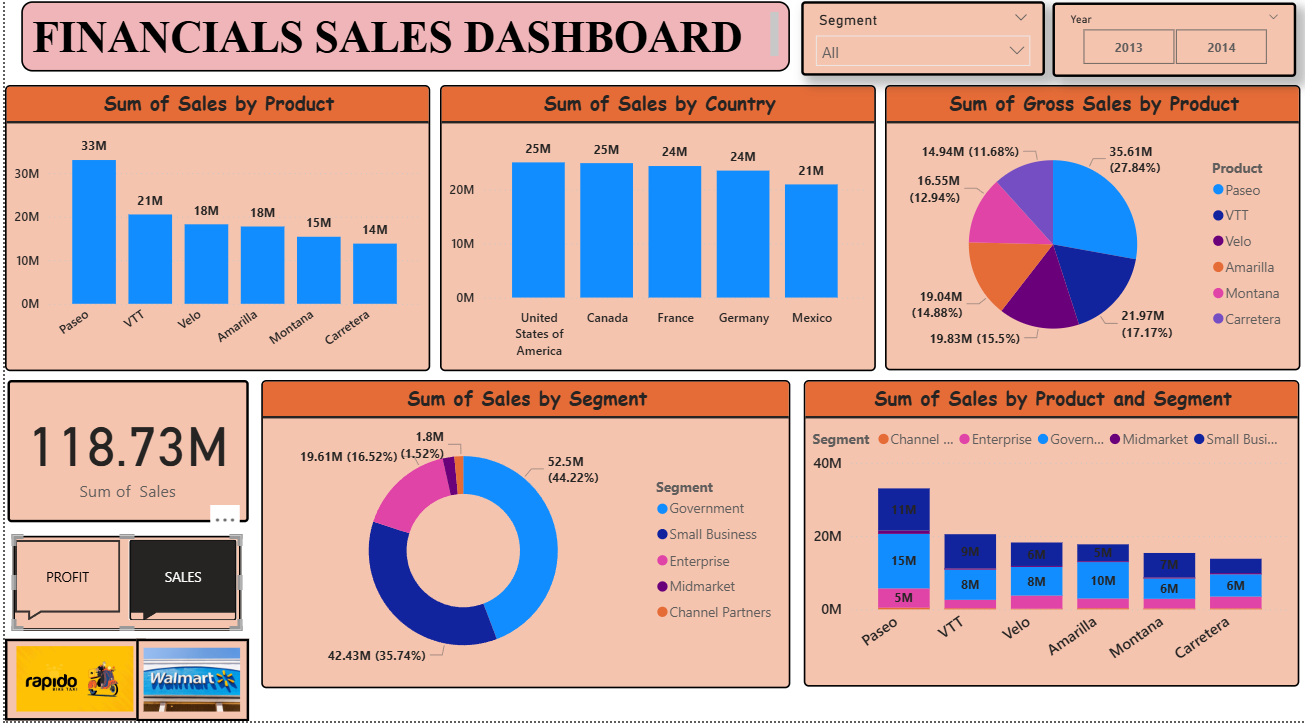

What the dashboard file says about the page in this screenshot:
{"tool":"powerbi","page":{"name":"dashboard","canvas":[1280,720],"ordinal":0},"visuals":[{"type":"columnChart","fields":{"Y":["Sum(financials. Sales)"],"Category":["financials.Product"]},"box":[0,97.8,415.8,280],"z":0},{"type":"textbox","box":[15.9,15.9,752,68.5],"z":1000},{"type":"columnChart","fields":{"Y":["Sum(financials. Sales)"],"Category":["financials.Country"]},"box":[425.4,97.4,426.8,279.9],"z":2000},{"type":"pieChart","fields":{"Category":["financials.Product"],"Y":["Sum(financials.Gross Sales)"]},"box":[860.4,97.7,406.1,279.5],"z":3000},{"type":"columnChart","fields":{"Category":["financials.Product"],"Series":["financials.Segment"],"Y":["Sum(financials. Sales)"]},"box":[781.9,386.8,484.6,300.1],"z":5000},{"type":"slicer","fields":{"Values":["financials.Segment"]},"box":[778.6,15.7,238.6,72.9],"z":6000},{"type":"card","fields":{"Values":["Sum(financials. Sales)"]},"box":[2.4,386.4,236,139.4],"z":8000},{"type":"slicer","fields":{"Values":["financials.Year"]},"box":[1024.2,16.5,238.2,73],"z":9000},{"type":"donutChart","fields":{"Category":["financials.Segment"],"Y":["Sum(financials. Sales)"]},"box":[250.5,386.8,517.6,301.5],"z":13000},{"type":"bookmarkNavigator","box":[7.5,537.5,223.8,93.8],"z":15000},{"type":"image","box":[7.3,640.8,223.8,69.7],"z":18000}]}

Visuals, with their boxes in screenshot pixels (x1, y1, x2, y2), scaled from the page's 1280x720 canvas onto the 1305x726 screenshot:
columnChart - Sum(financials. Sales) x financials.Product: locate(0, 99, 424, 381)
textbox: locate(16, 16, 783, 85)
columnChart - Sum(financials. Sales) x financials.Country: locate(434, 98, 869, 380)
pieChart - financials.Product x Sum(financials.Gross Sales): locate(877, 99, 1291, 380)
columnChart - financials.Product x financials.Segment: locate(797, 390, 1291, 693)
slicer - financials.Segment: locate(794, 16, 1037, 89)
card - Sum(financials. Sales): locate(2, 390, 243, 530)
slicer - financials.Year: locate(1044, 17, 1287, 90)
donutChart - financials.Segment x Sum(financials. Sales): locate(255, 390, 783, 694)
bookmarkNavigator: locate(8, 542, 236, 637)
image: locate(7, 646, 236, 716)
